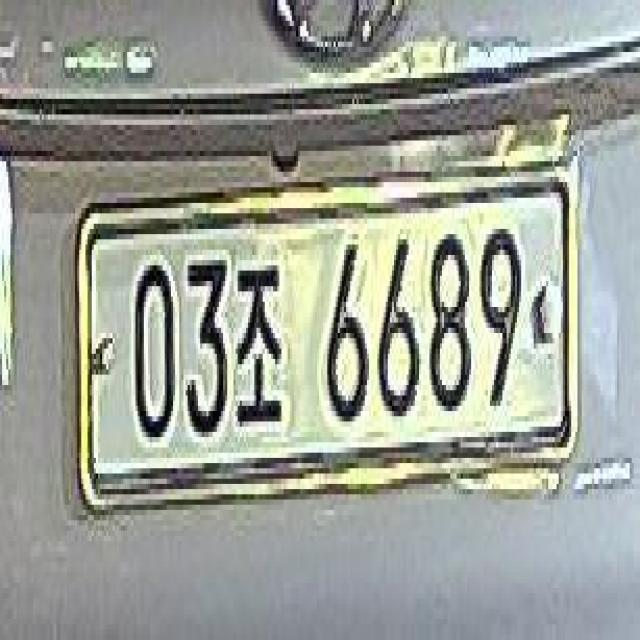illegal_plate: (82, 176, 573, 511)
